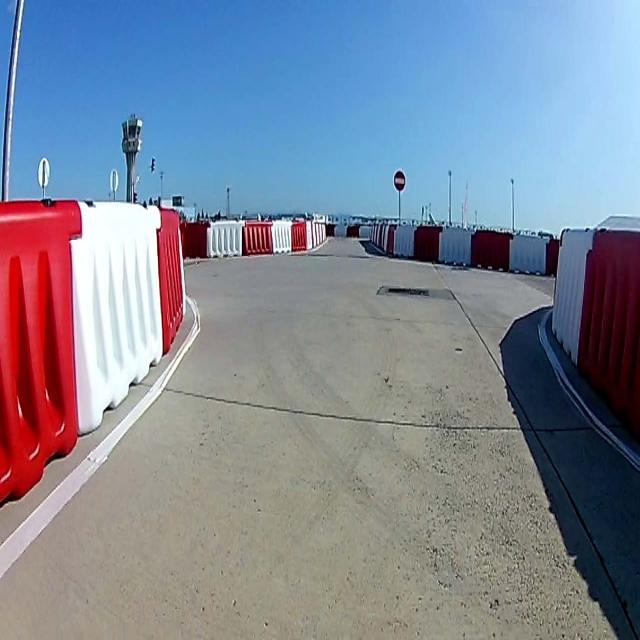girisyok: (394, 171, 404, 190)
